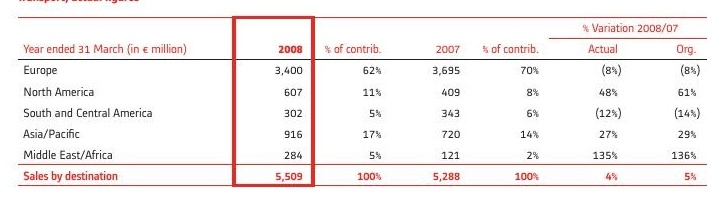table: (0, 0, 724, 206)
